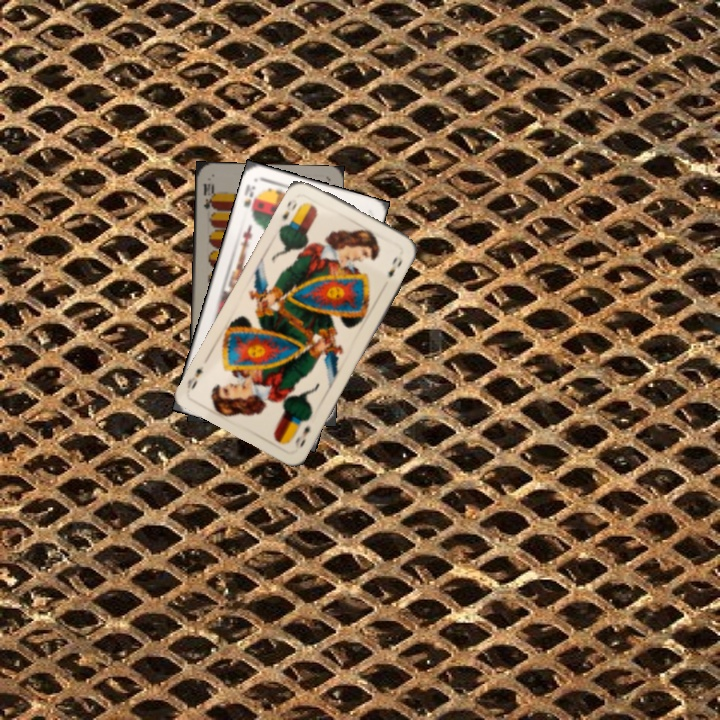E10: (199, 179, 218, 211)
EO: (291, 422, 313, 453), (278, 197, 300, 224)
SK: (240, 180, 258, 210)
